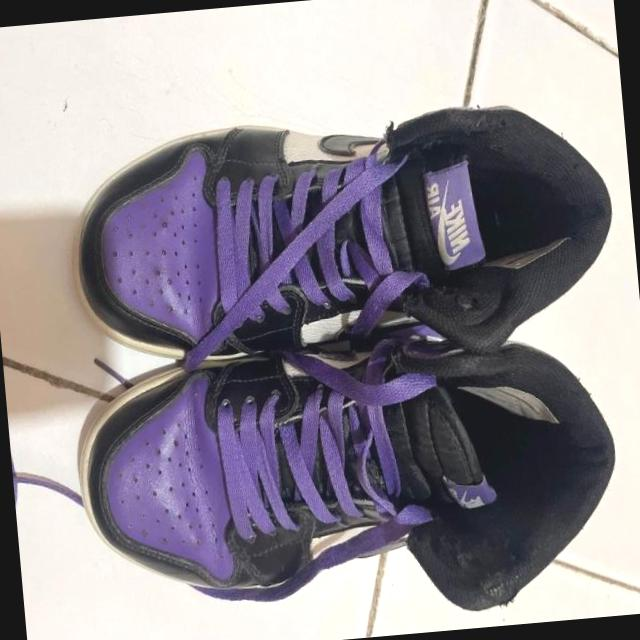nike_fake_jordan: (50, 327, 628, 640), (62, 96, 624, 378)
